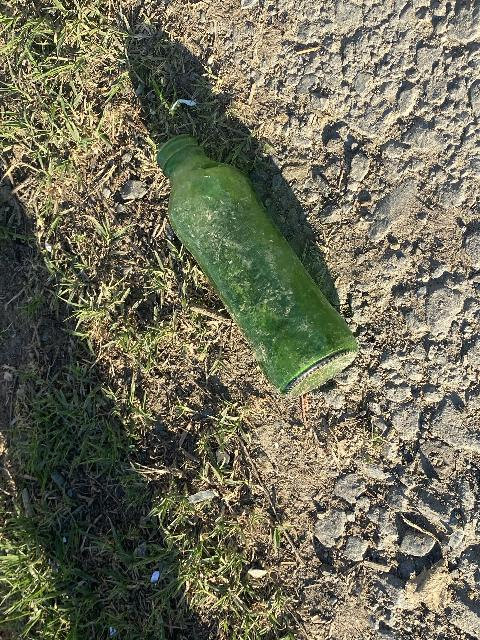Cam: (149, 144, 370, 386)
